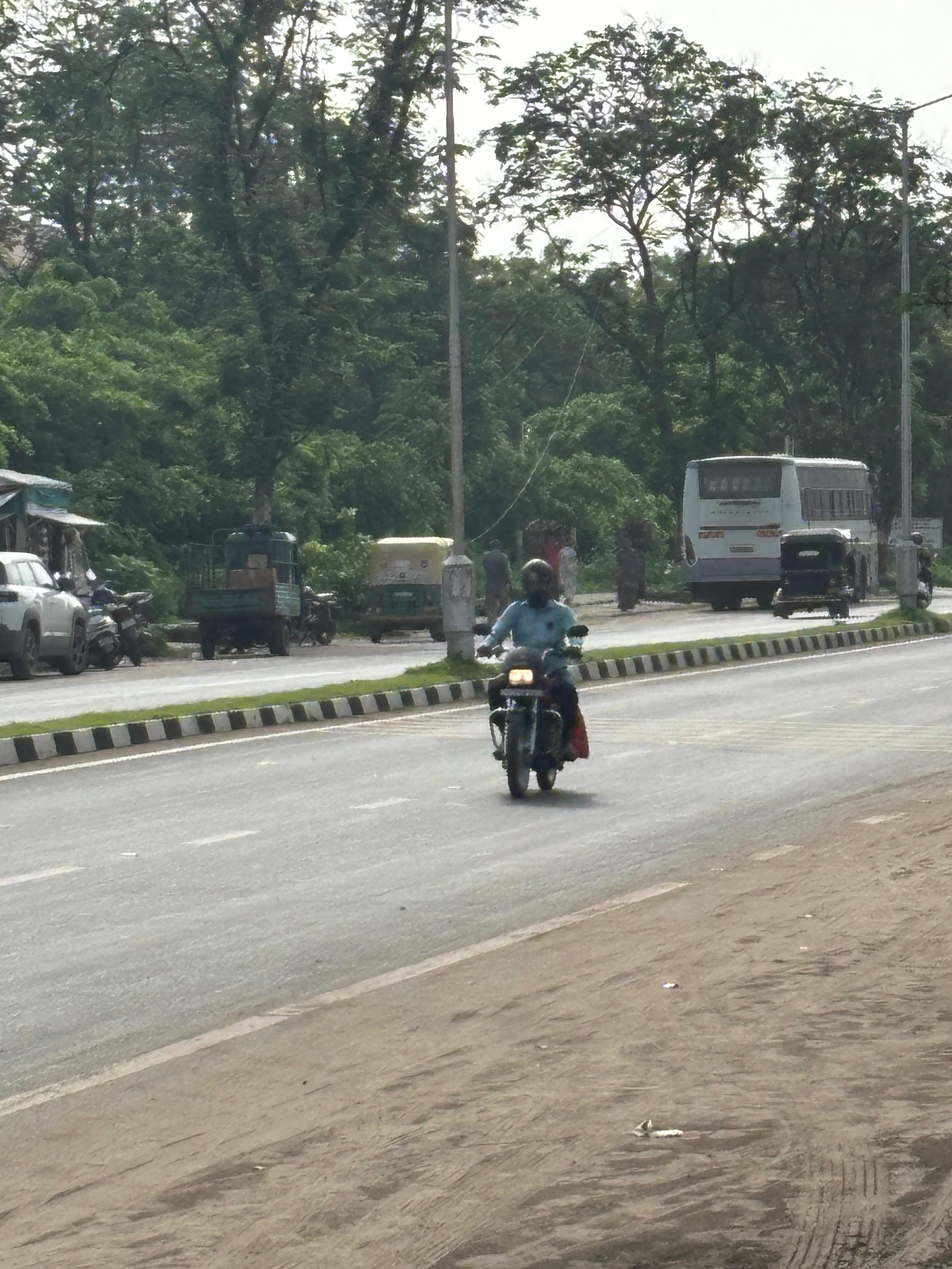BikeWithRider: (473, 551, 596, 802), (908, 525, 939, 615)
Helmet: (516, 554, 554, 607), (908, 528, 924, 550)
